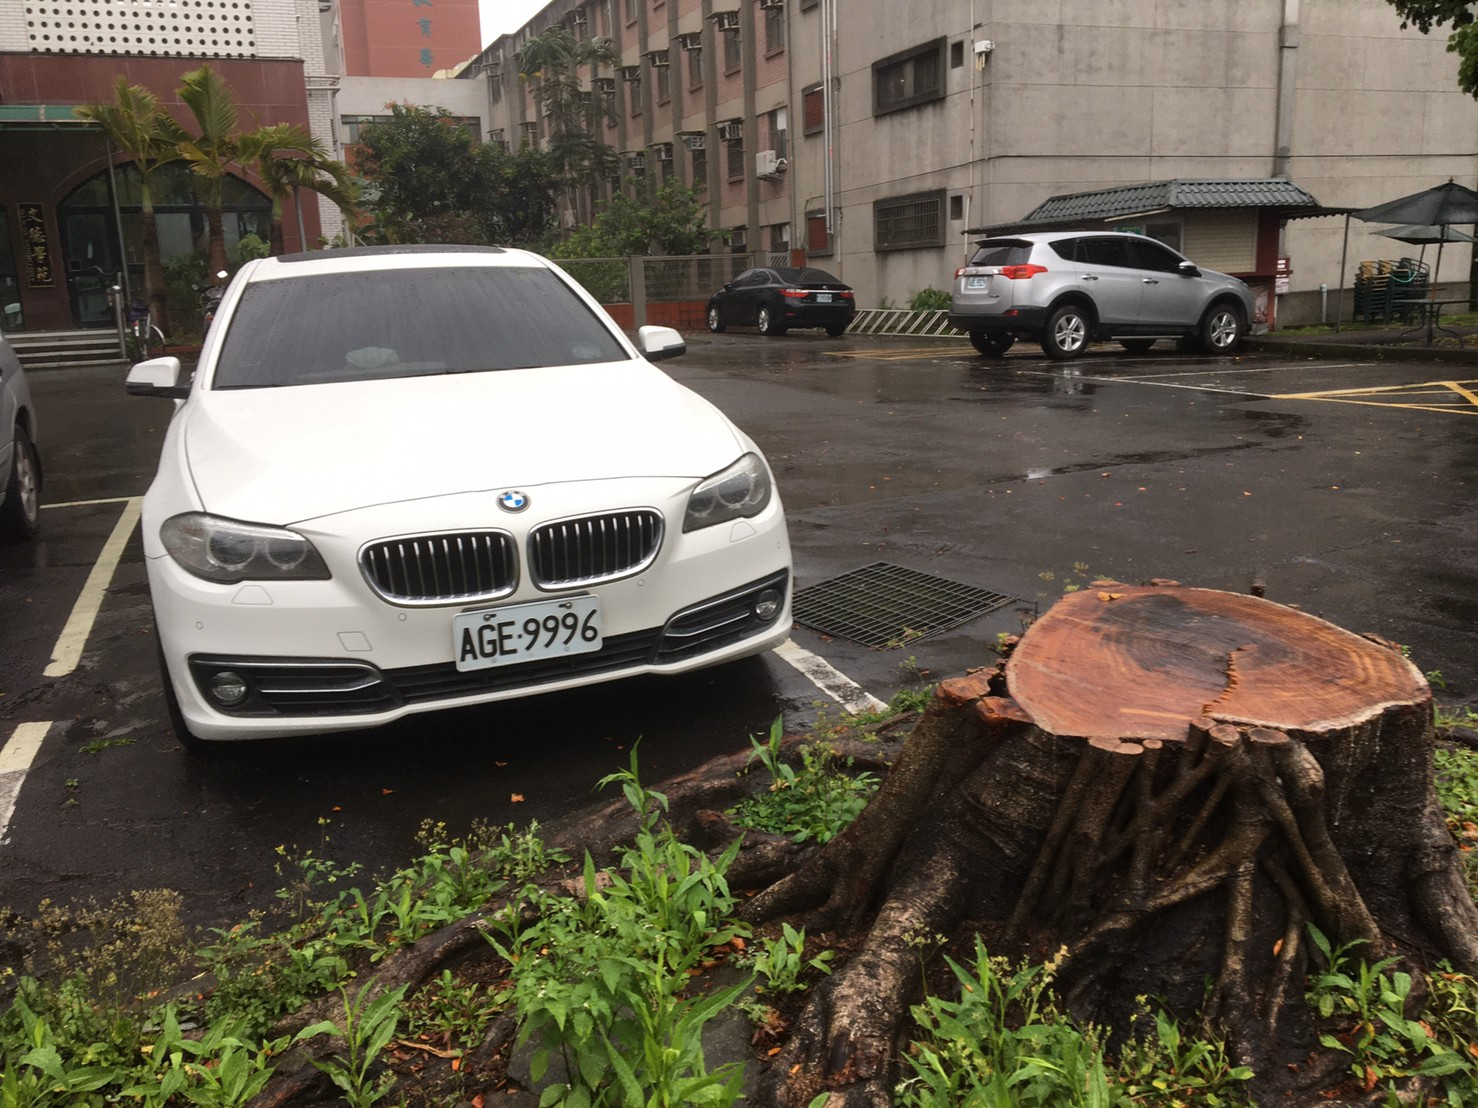LP: (445, 606, 601, 661), (964, 276, 987, 292), (816, 289, 836, 303)
